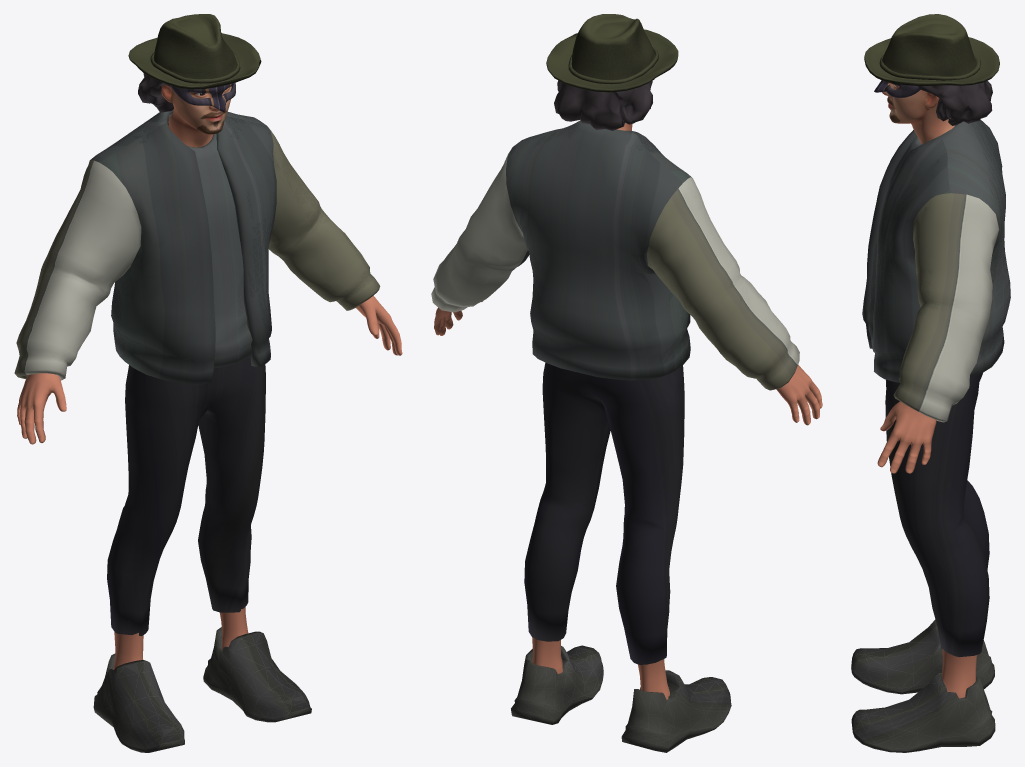
3 renders of one model, left to right at view 1: azimuth 30°, elevation 25°; view 2: azimuth 150°, elevation 25°; view 3: azimuth 270°, elevation 25°, orthographic.
Parts seen in each view (by area): view 1: Wolf3D_Outfit_Top, Wolf3D_Outfit_Bottom, Wolf3D_Outfit_Footwear, Wolf3D_Headwear, Wolf3D_Body, Wolf3D_Head, Wolf3D_Facewear; view 2: Wolf3D_Outfit_Top, Wolf3D_Outfit_Bottom, Wolf3D_Headwear, Wolf3D_Outfit_Footwear, Wolf3D_Body; view 3: Wolf3D_Outfit_Top, Wolf3D_Outfit_Bottom, Wolf3D_Outfit_Footwear, Wolf3D_Headwear, Wolf3D_Body, Wolf3D_Head, Wolf3D_Facewear.
Part boxes in pixels (bbox=[...]): Wolf3D_Outfit_Top: bbox=[14, 110, 380, 384]; Wolf3D_Outfit_Bottom: bbox=[107, 356, 265, 636]; Wolf3D_Outfit_Footwear: bbox=[93, 627, 311, 752]; Wolf3D_Headwear: bbox=[128, 14, 261, 112]; Wolf3D_Body: bbox=[17, 296, 402, 669]; Wolf3D_Head: bbox=[161, 85, 231, 147]; Wolf3D_Facewear: bbox=[170, 82, 235, 112]; Wolf3D_Outfit_Top: bbox=[431, 120, 799, 390]; Wolf3D_Outfit_Bottom: bbox=[524, 362, 684, 664]; Wolf3D_Headwear: bbox=[546, 14, 678, 130]; Wolf3D_Outfit_Footwear: bbox=[511, 645, 731, 752]; Wolf3D_Body: bbox=[434, 300, 822, 699]; Wolf3D_Outfit_Top: bbox=[862, 119, 1010, 422]; Wolf3D_Outfit_Bottom: bbox=[885, 373, 989, 657]; Wolf3D_Outfit_Footwear: bbox=[851, 619, 995, 752]; Wolf3D_Headwear: bbox=[864, 14, 999, 125]; Wolf3D_Body: bbox=[877, 401, 977, 698]; Wolf3D_Head: bbox=[882, 83, 955, 144]; Wolf3D_Facewear: bbox=[874, 80, 920, 97].
Bounding box in the file's own units: 1.06 × 1.88 × 0.3959.
Materials: 9 (9 with a texture image).
